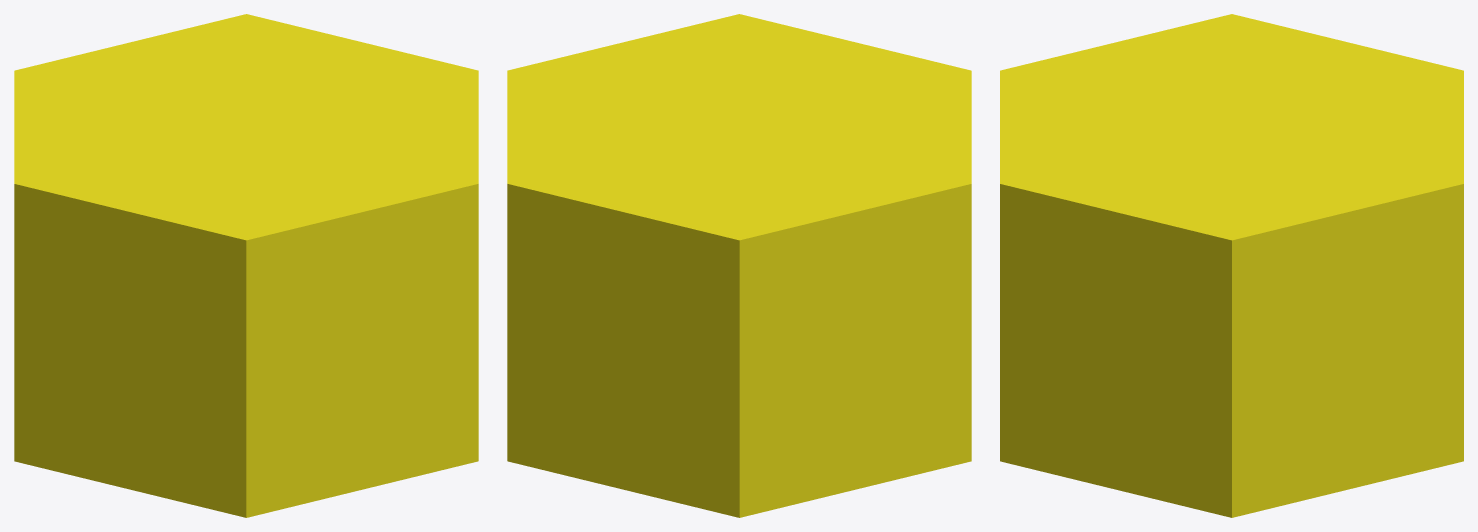
Rendered from icon_sulfur.obj.
3 renders of one model, left to right at view 1: azimuth 30°, elevation 25°; view 2: azimuth 150°, elevation 25°; view 3: azimuth 270°, elevation 25°, orthographic.
Bounding box in the file's own units: 0.14 × 0.08 × 0.1212.
